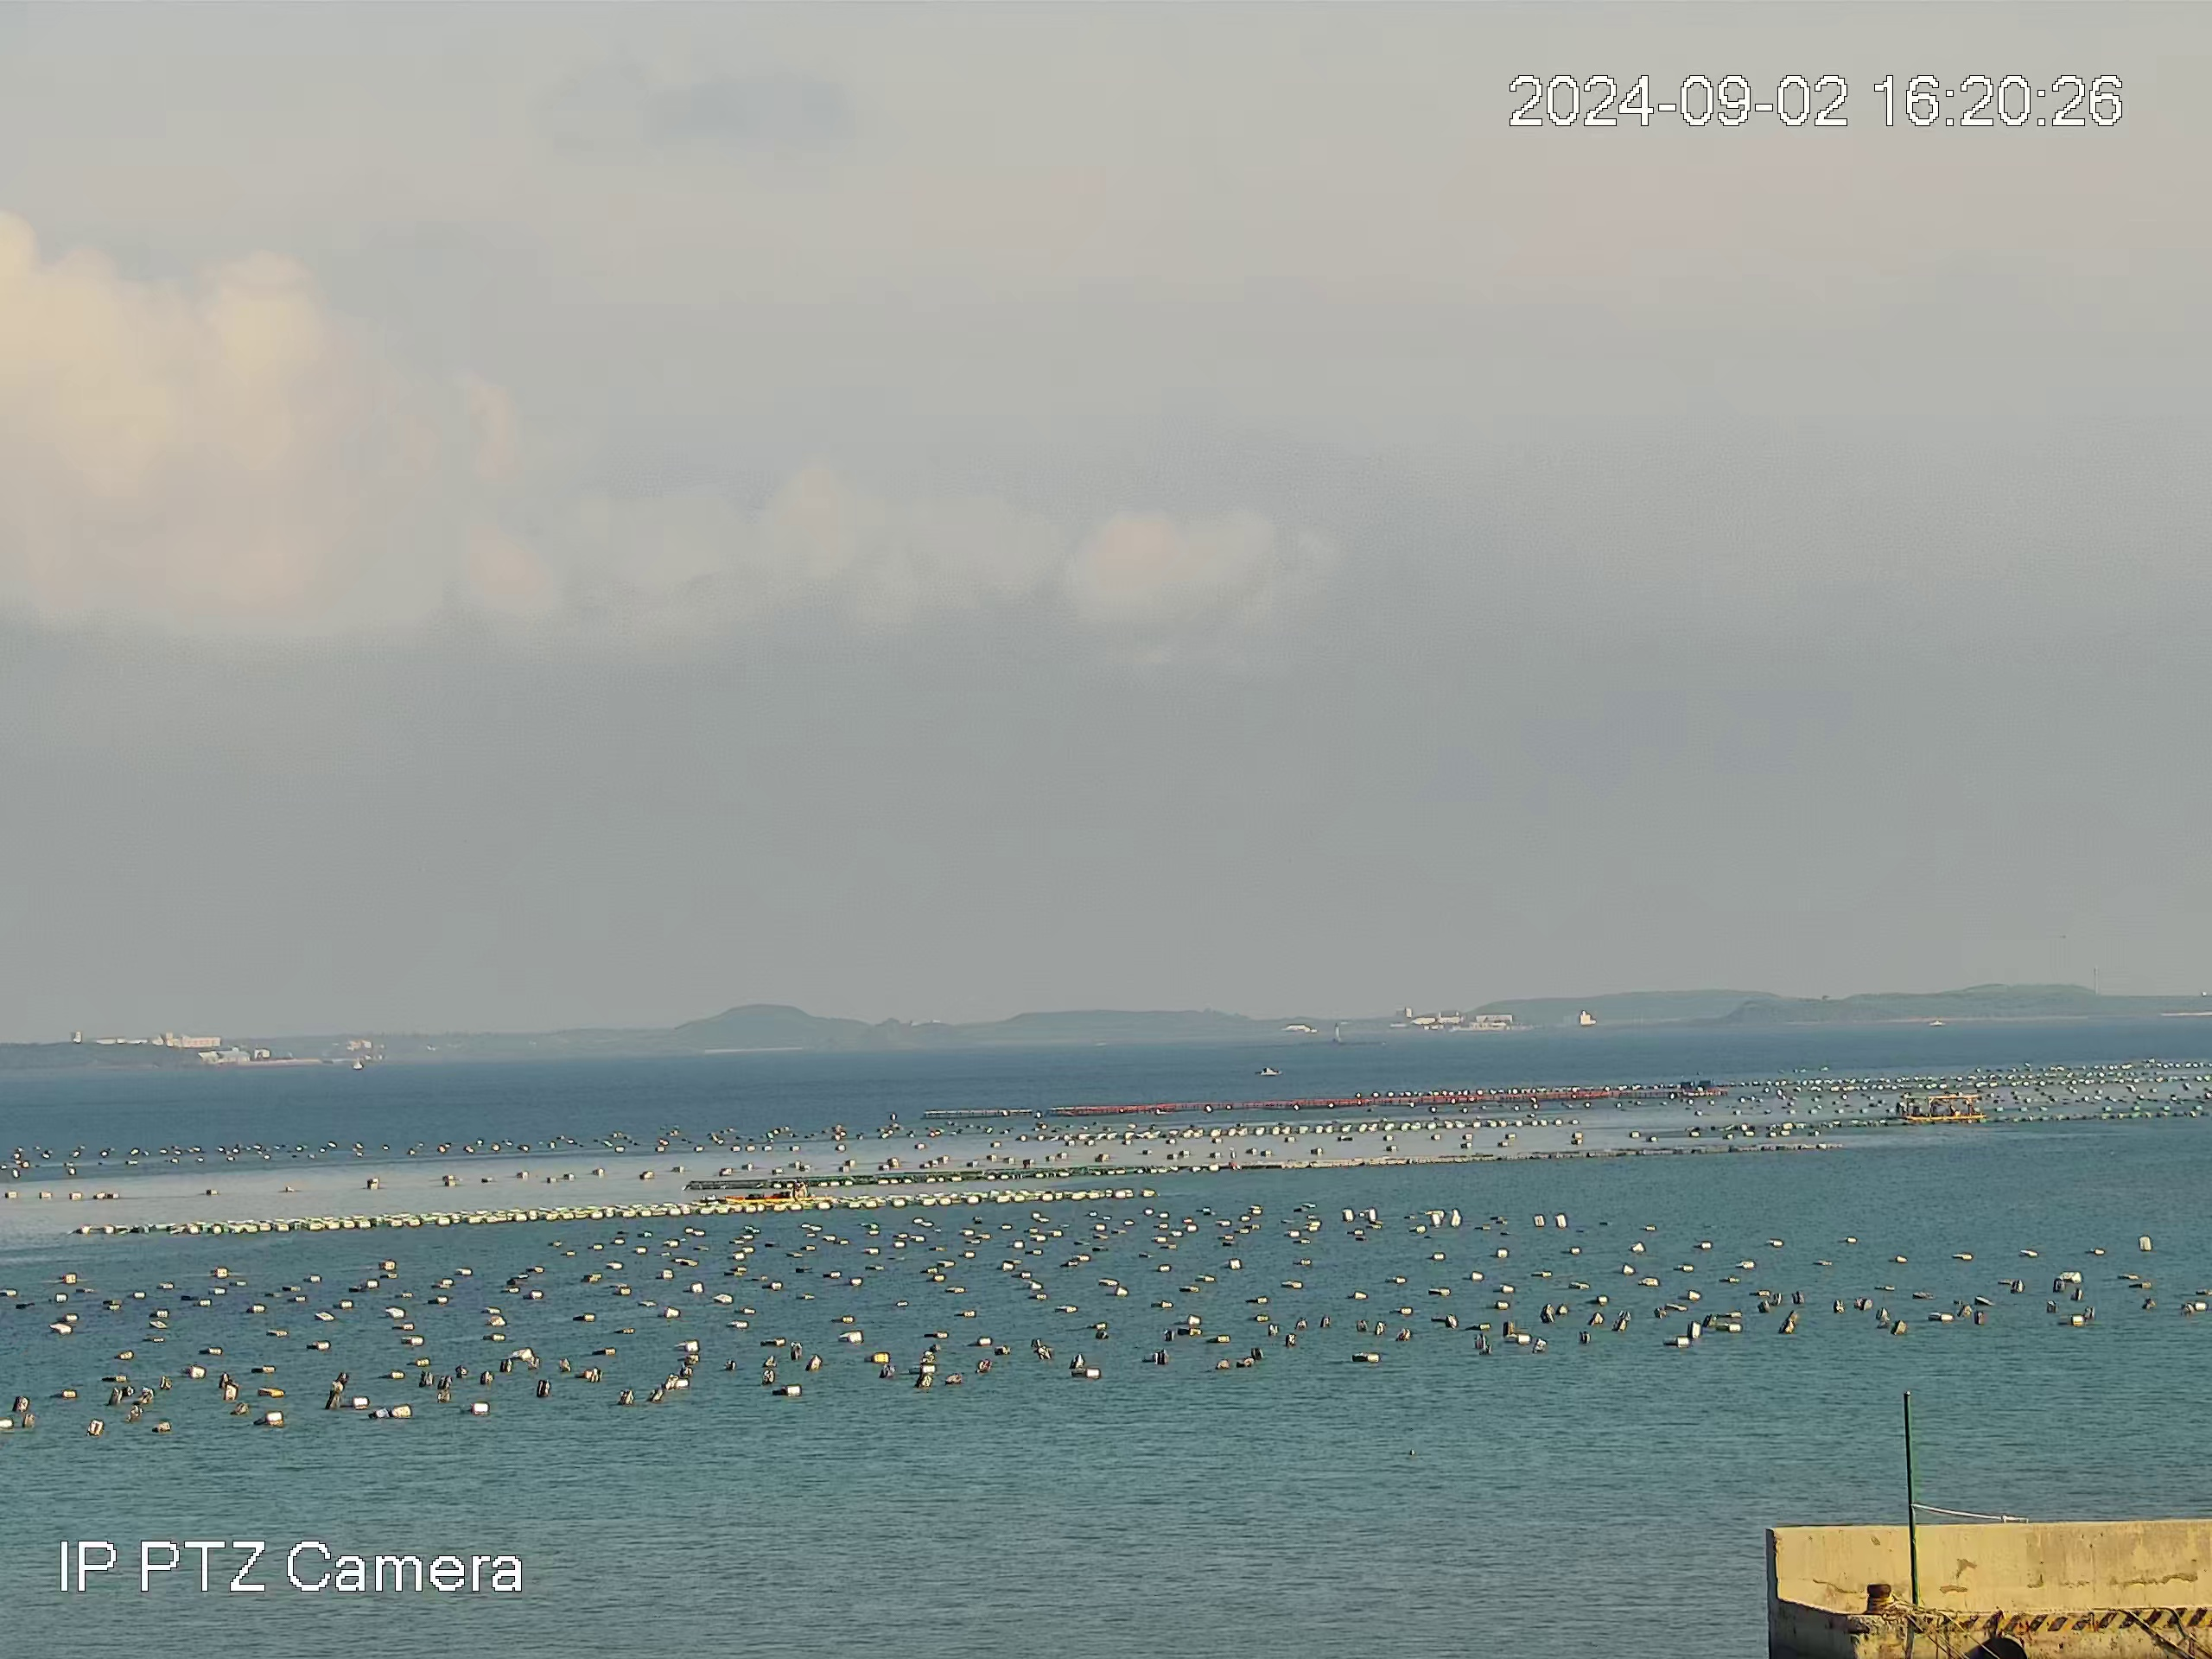boat: (1900, 1093, 1987, 1126), (723, 1180, 815, 1204), (1256, 1065, 1280, 1077)
